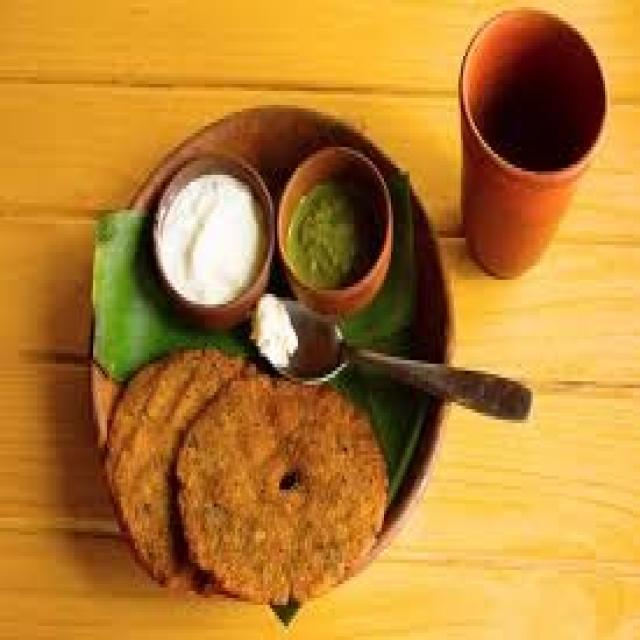puthina chutney: (280, 151, 377, 306)
